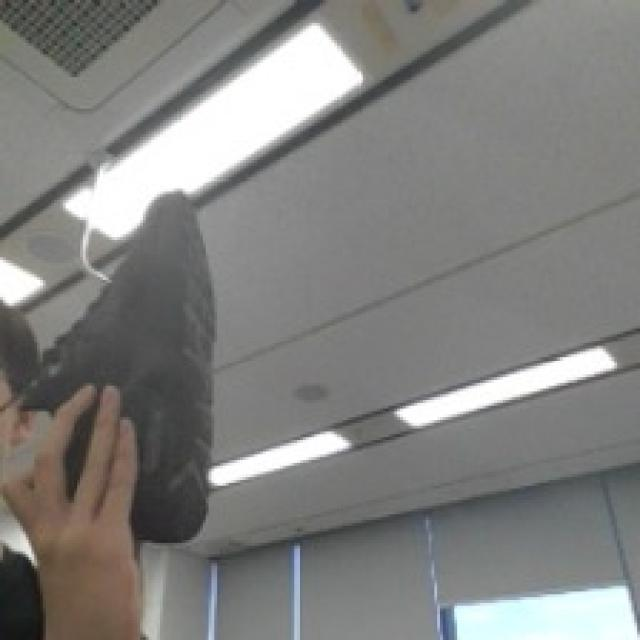shoe: (51, 189, 214, 546)
